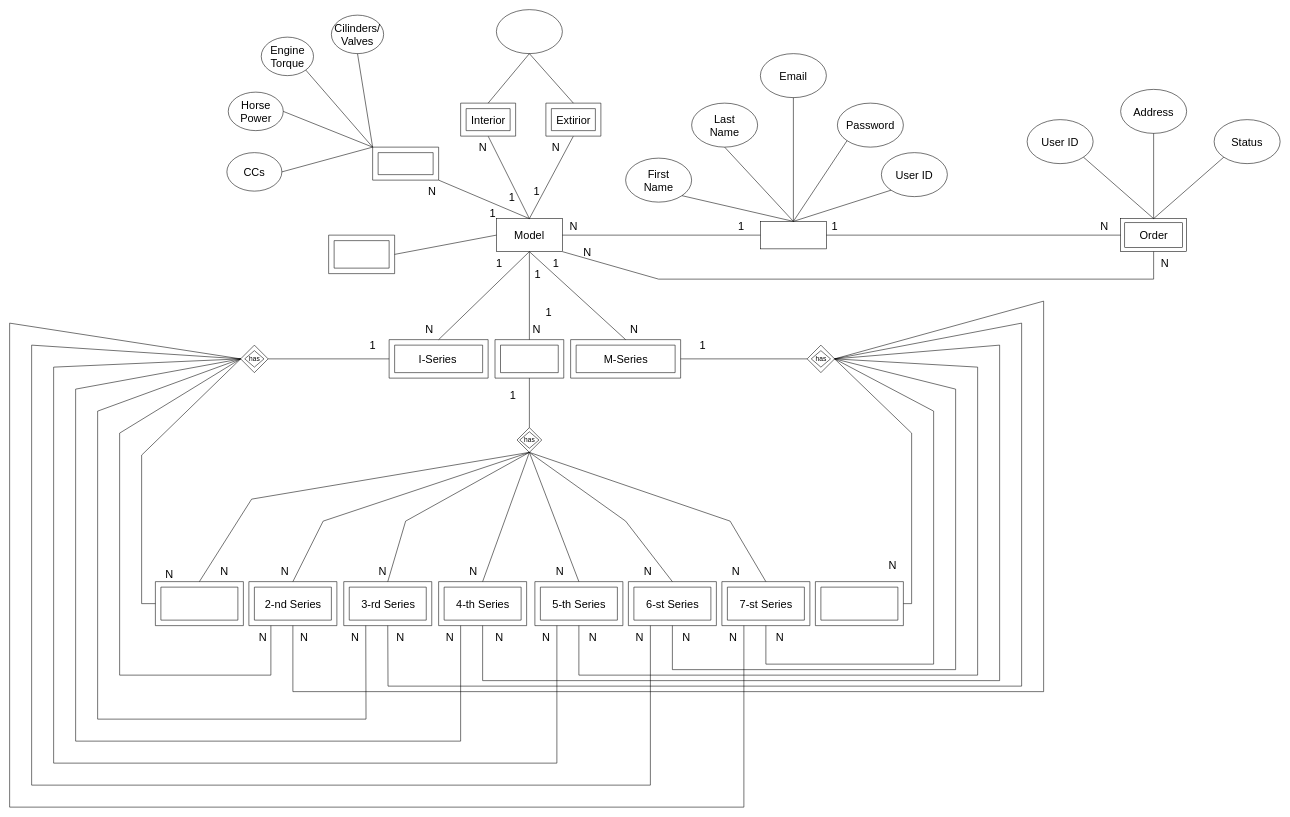
Some shapes in this 1290 by 817 pixel diagram are drawn without their labels. Each missing label, with the centre of its shape:
1-st Series: pixel 199 603
8-st Series: pixel 859 603
Color: pixel 529 31
Engine: pixel 405 163
Packages: pixel 361 254
User: pixel 793 235
X-Series: pixel 529 358
